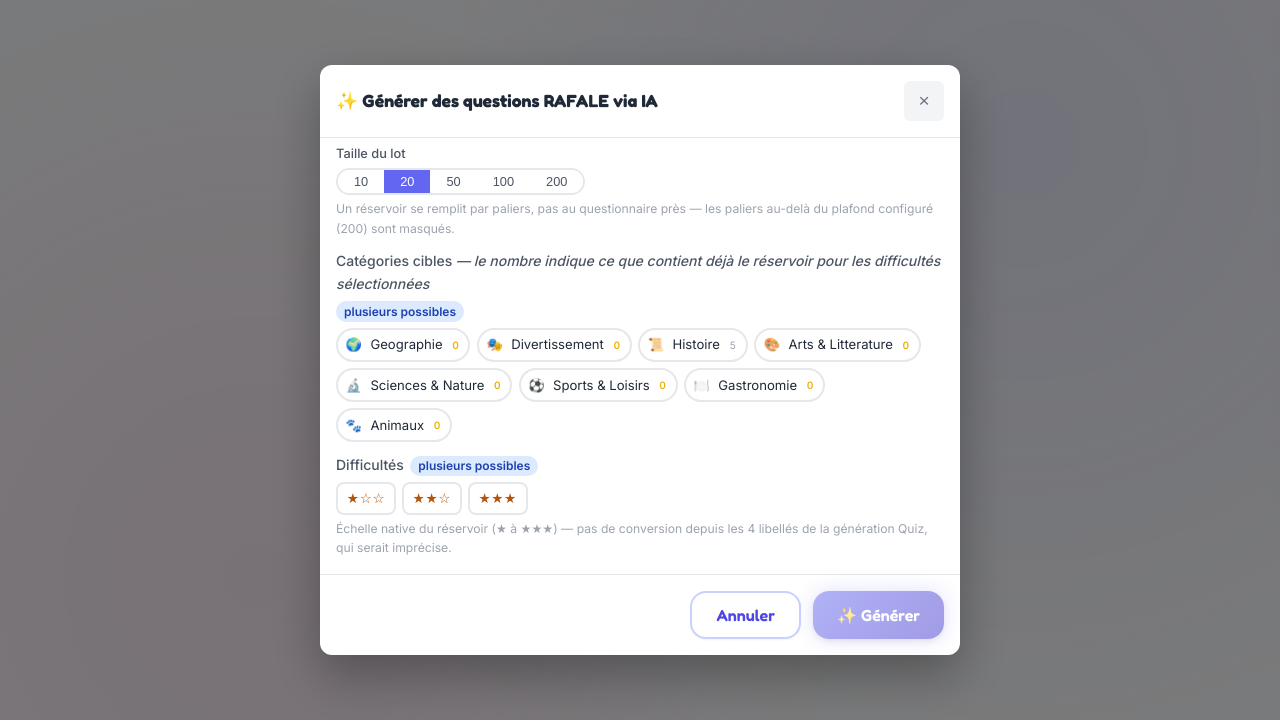
Scenario: RafaleAIGenerateModal — comptes par catégorie (contrat §3.1) › recalculates category counts when the selected difficulty changes
(page scrolled)
Expected: the text "5" is shown, [729,336,736,353]
Click the button "★☆☆": (366, 499) [336,482,396,515]
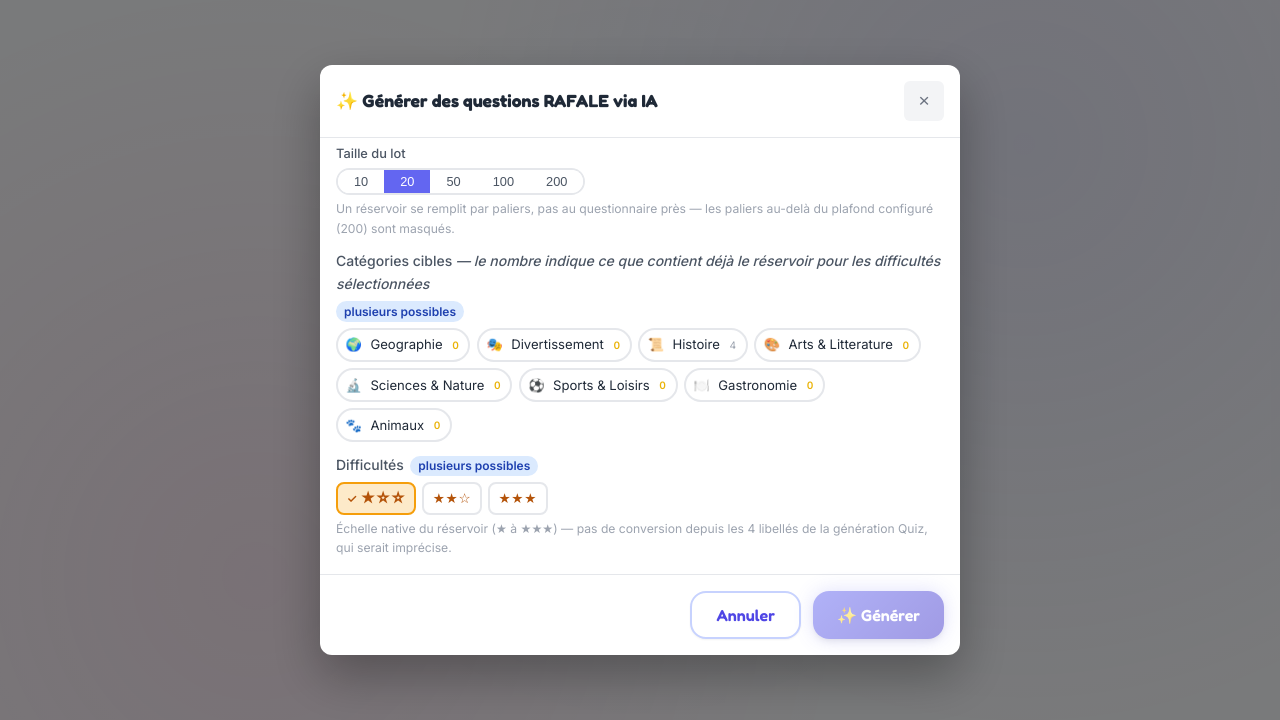
Result: the text "4" is shown at [729,336,736,353]
Click the button "★★★": (518, 499) [488,482,548,515]
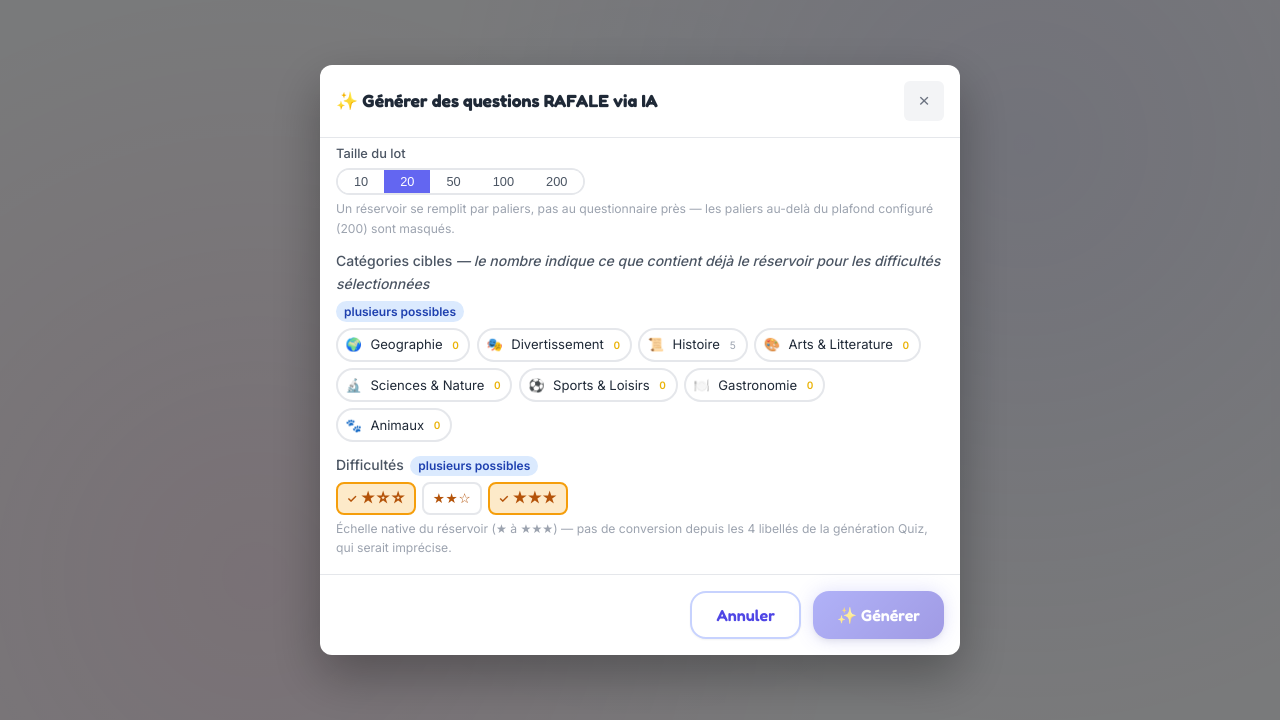
Result: the text "5" is shown at [729,336,736,353]
Click the text "★☆☆": (383, 498) [361,490,406,506]
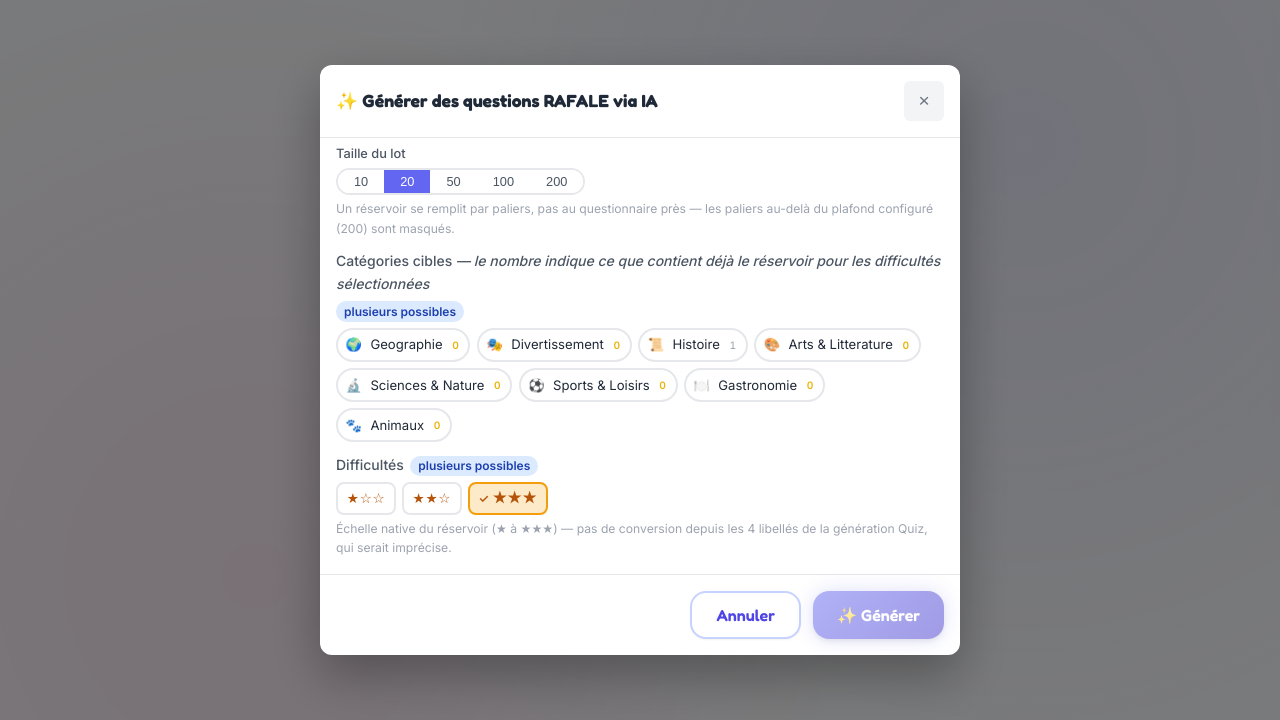
Result: the text "1" is shown at [729,336,736,353]
